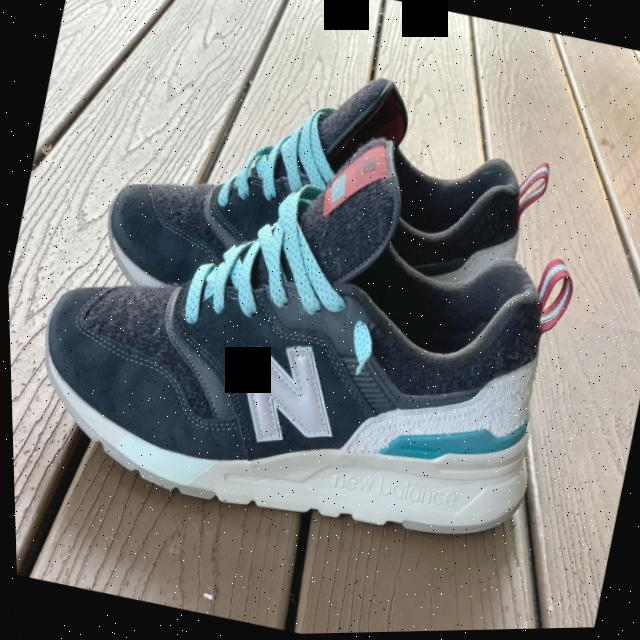shoes: (2, 67, 614, 597), (77, 10, 575, 389)
